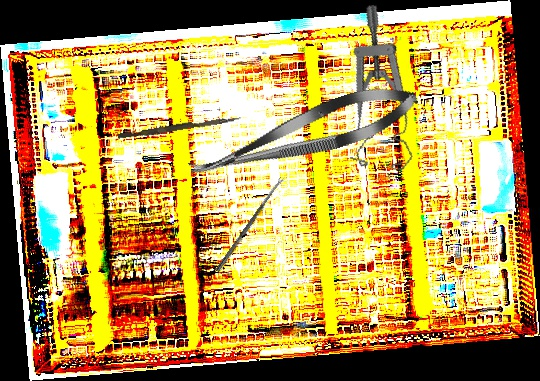Micro Scissor: (183, 74, 424, 194)
Pusher: (117, 112, 242, 142)
Speculum: (318, 2, 454, 181)
Surgical Spoon: (215, 176, 285, 273)
